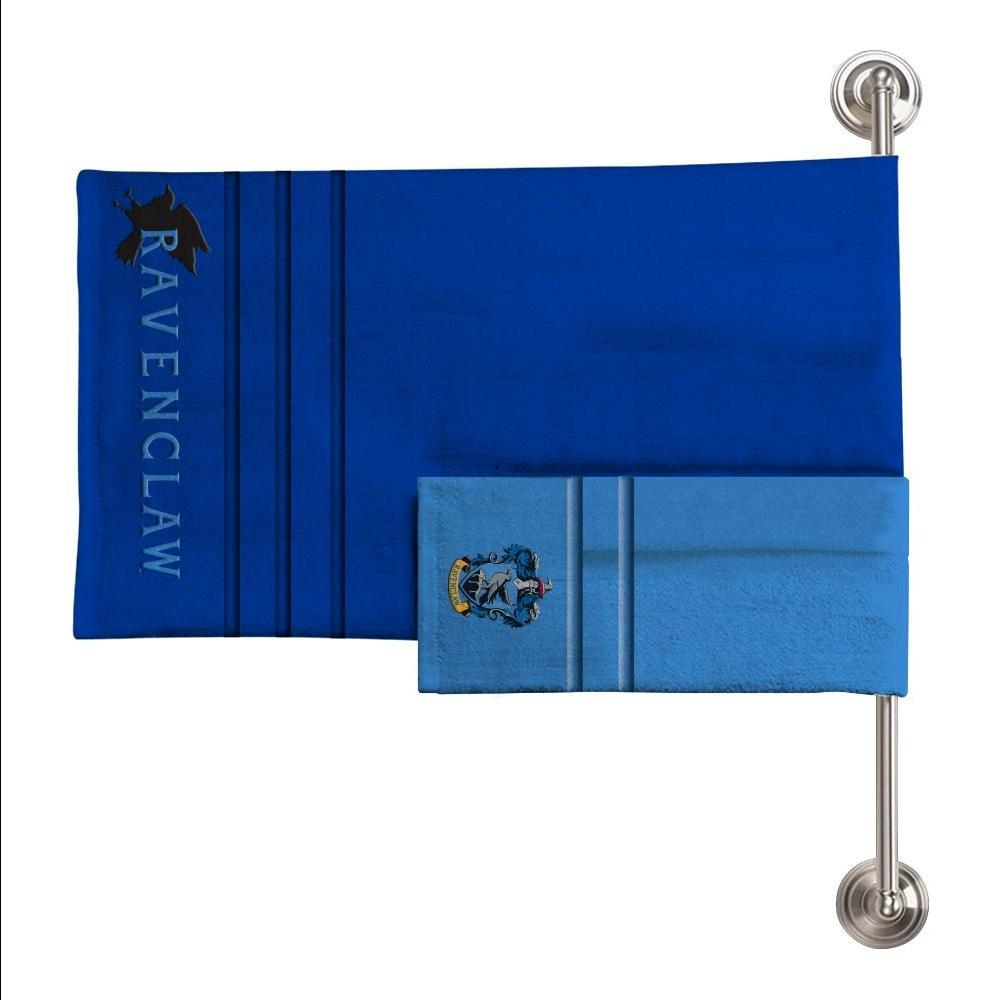towel: (58, 118, 402, 680)
